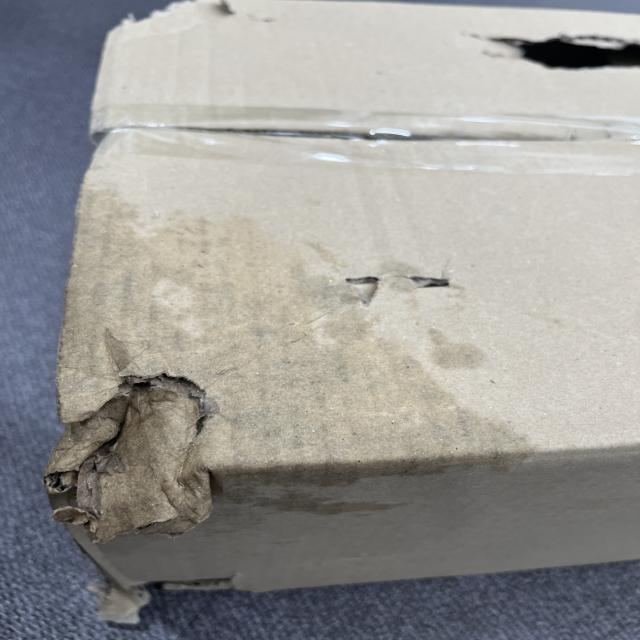hole: (472, 26, 638, 86)
wet: (29, 227, 505, 528)
